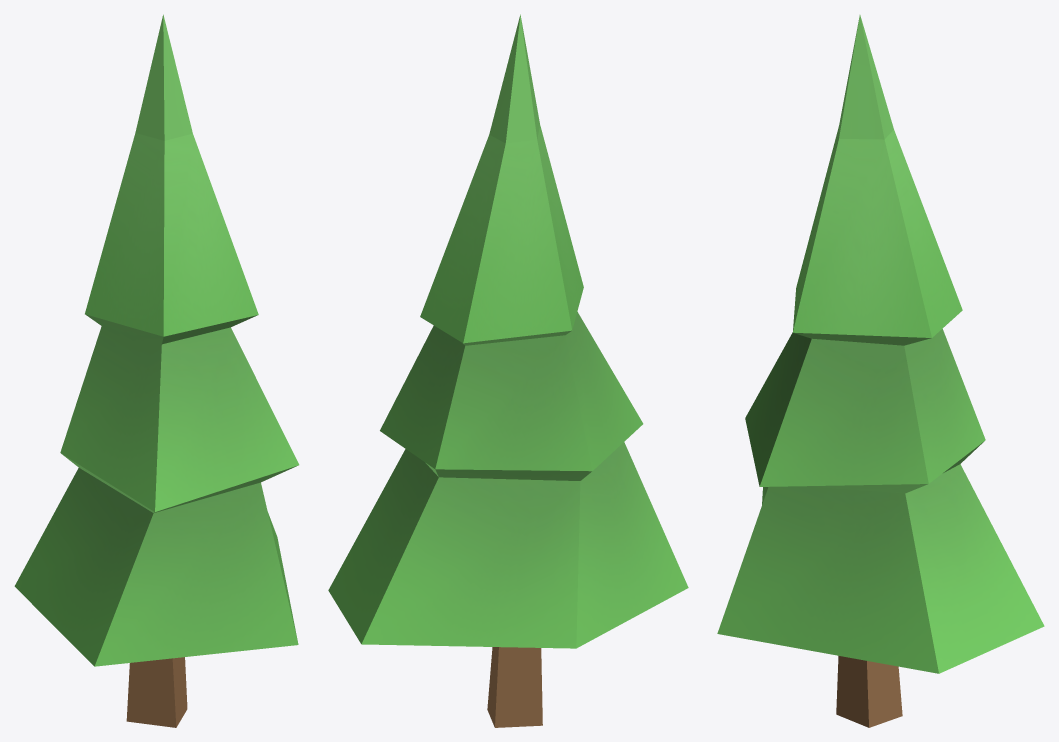
The model's file is Fir_Tree_s_02.fbx.
The picture shows the model from 3 angles, left to right: view 1: azimuth 30°, elevation 25°; view 2: azimuth 150°, elevation 25°; view 3: azimuth 270°, elevation 25°; orthographic projection.
Parts seen in each view (by area): view 1: Fir_Tree_s_02; view 2: Fir_Tree_s_02; view 3: Fir_Tree_s_02.
Part boxes in pixels (<box>): Fir_Tree_s_02: <box>14,14,299,727</box>; Fir_Tree_s_02: <box>328,14,688,727</box>; Fir_Tree_s_02: <box>717,15,1044,727</box>.
Bounding box in the file's own units: 104 × 256 × 108.
